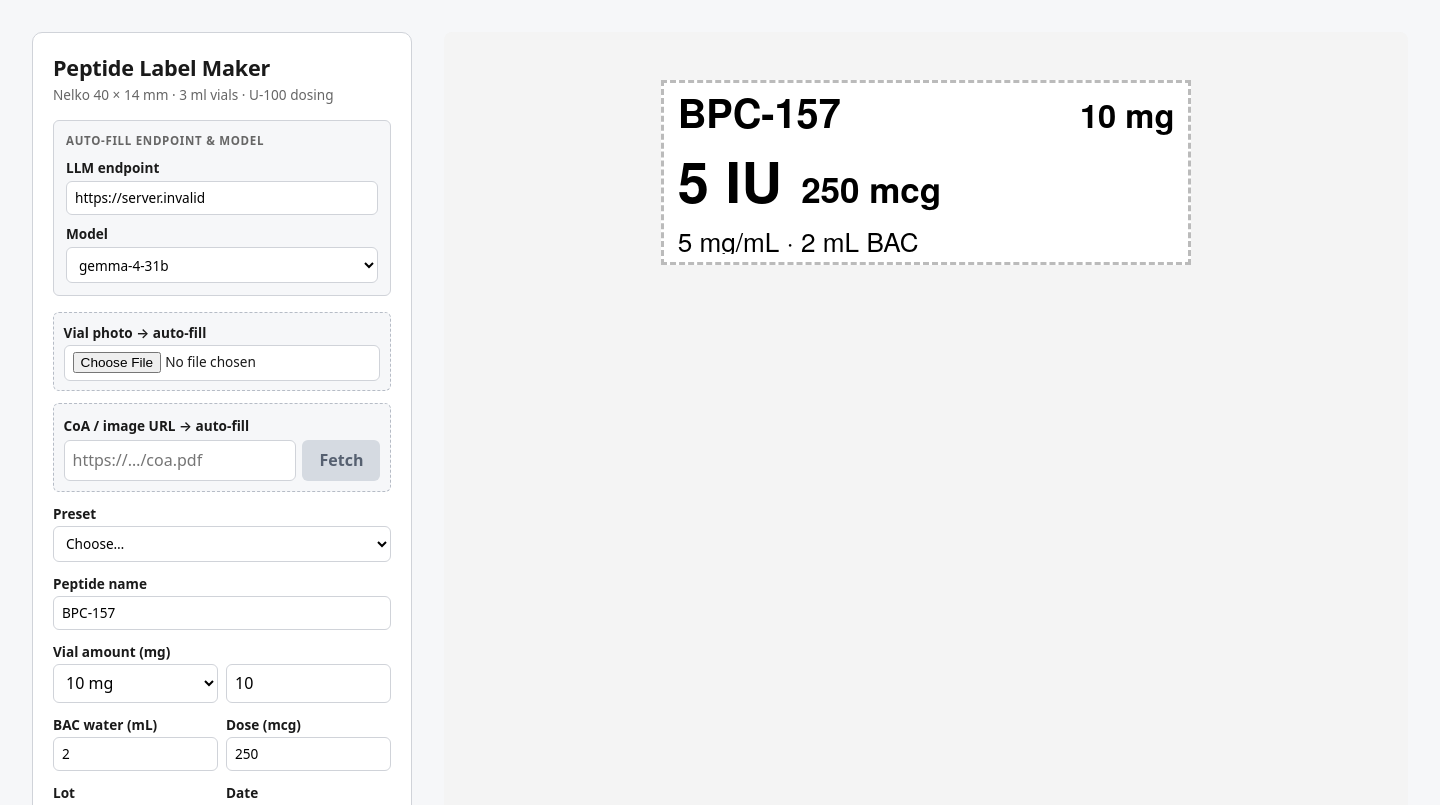
Test: App › auto-fills fields from a CoA/image URL
Step 1. Type "https://coa.vendor.com/a.pdf" into the field named "CoA / image URL → auto-fill" → (180,460), box left=64, top=440, right=296, bottom=481
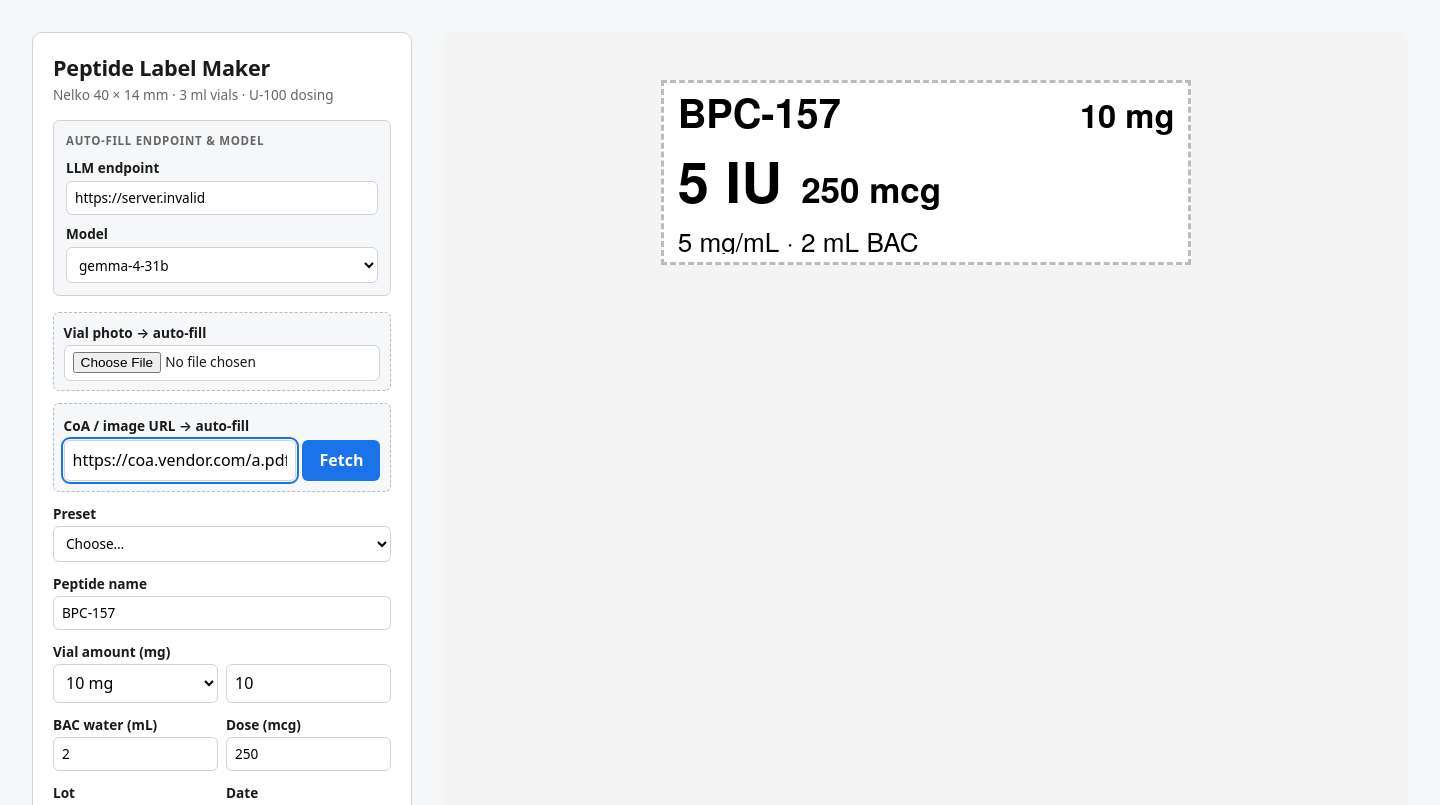
Step 2. Click the button "Fetch" → (341,460), box left=302, top=440, right=380, bottom=481
(page scrolled)
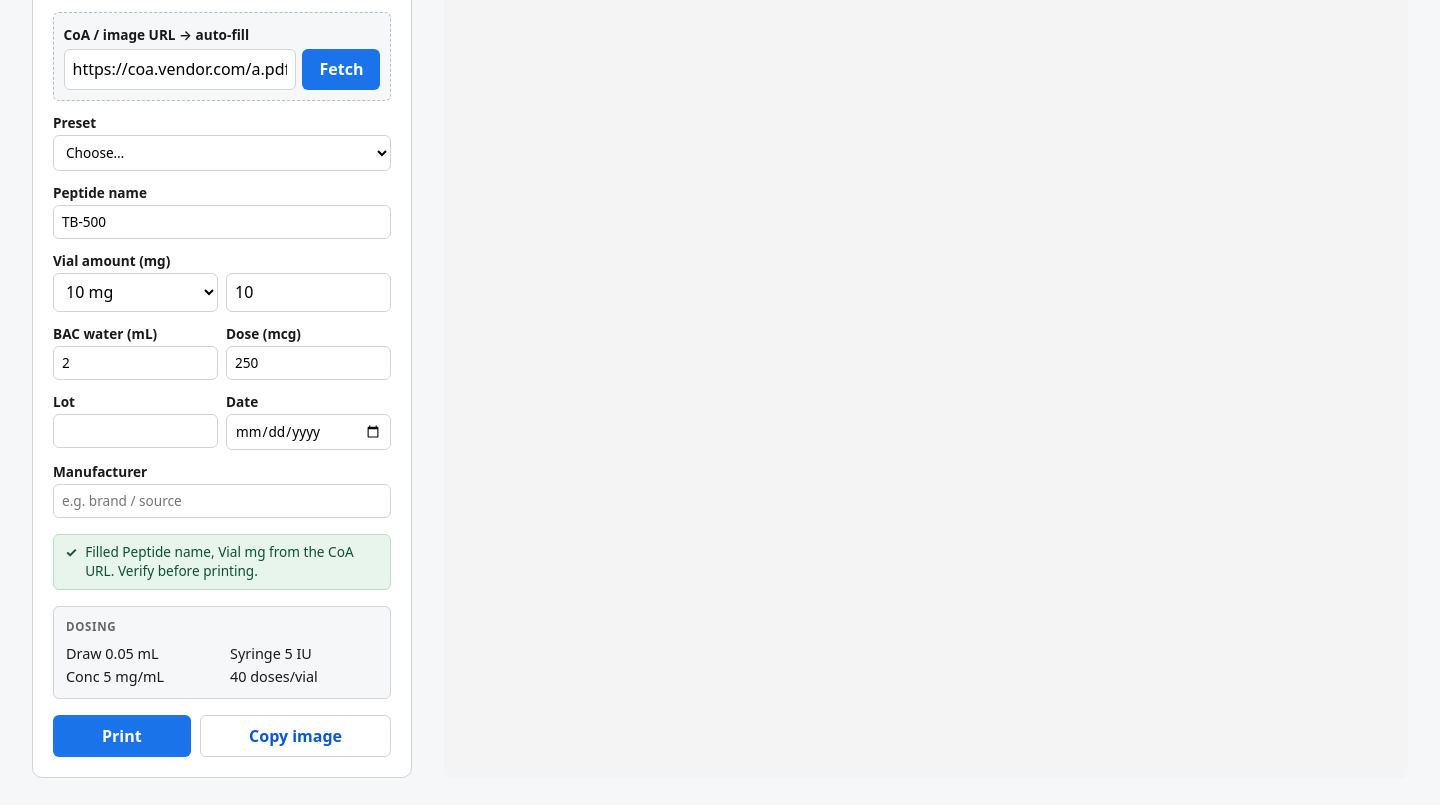
Result: the field showing "TB-500" is shown at left=53, top=205, right=391, bottom=239
Result: the text "from the CoA URL" is shown at left=85, top=542, right=354, bottom=580
